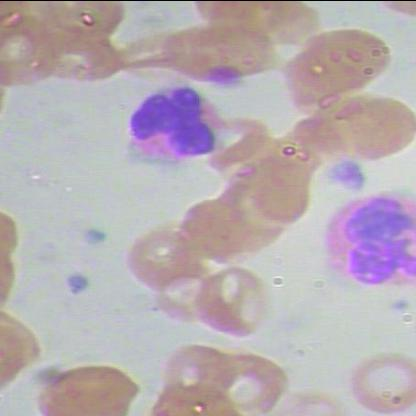Platelets: (327, 154, 368, 193), (204, 64, 242, 90), (77, 224, 115, 250), (59, 269, 97, 295)
RBC: (187, 260, 279, 342), (31, 354, 145, 416), (306, 20, 395, 92), (272, 45, 361, 117), (118, 216, 207, 288), (220, 160, 309, 232), (172, 194, 260, 266), (329, 94, 415, 166), (204, 0, 318, 54), (152, 340, 233, 414), (210, 347, 292, 415), (35, 28, 122, 90), (0, 7, 68, 86), (341, 346, 415, 416), (37, 1, 127, 52), (0, 299, 44, 396), (154, 268, 224, 326), (270, 370, 349, 416)
WBC: (109, 76, 228, 174), (312, 185, 416, 289)
